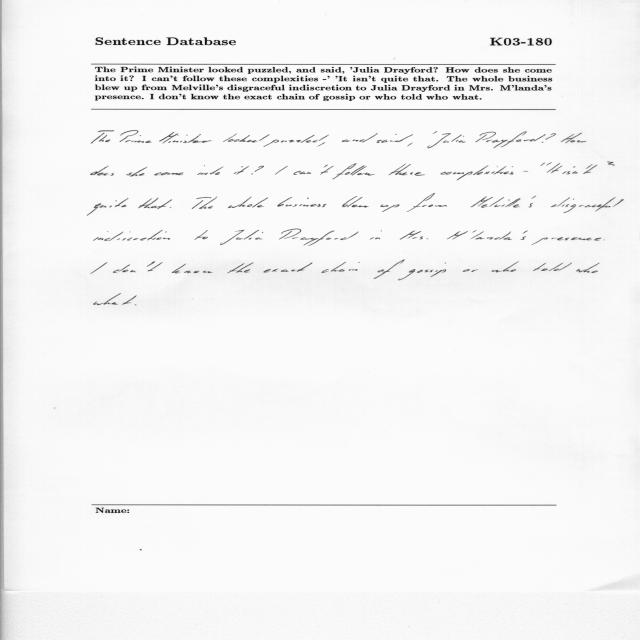word: (279, 229, 359, 246), (476, 132, 546, 149), (551, 197, 624, 213), (441, 166, 514, 181), (398, 263, 446, 281), (263, 134, 329, 147), (94, 230, 170, 241), (447, 230, 528, 240), (471, 196, 536, 208), (407, 193, 448, 212), (332, 163, 375, 180), (88, 198, 129, 215), (562, 162, 615, 175), (220, 230, 263, 245), (159, 132, 212, 144), (105, 130, 152, 143), (113, 261, 163, 273), (374, 260, 405, 279), (427, 134, 466, 149), (532, 237, 601, 245), (277, 197, 327, 207), (263, 263, 313, 273), (94, 294, 137, 305), (228, 197, 268, 208), (389, 164, 425, 176), (321, 262, 360, 273), (223, 134, 270, 143), (293, 165, 334, 175), (172, 264, 212, 274), (138, 198, 172, 209), (342, 133, 378, 143), (377, 134, 414, 143), (492, 261, 519, 273), (533, 263, 572, 271), (192, 197, 217, 209), (342, 196, 369, 207), (92, 131, 114, 144), (228, 263, 254, 274), (198, 165, 224, 175), (400, 231, 428, 240), (561, 133, 586, 143), (91, 166, 114, 176), (577, 263, 600, 273), (126, 167, 147, 177), (91, 262, 107, 274), (381, 204, 400, 212), (547, 163, 562, 173), (542, 133, 556, 143), (194, 230, 208, 240), (234, 166, 249, 174), (251, 166, 264, 175), (275, 166, 288, 175), (155, 172, 184, 176), (370, 231, 382, 240), (463, 269, 478, 272), (318, 142, 325, 147), (408, 143, 413, 147), (547, 162, 552, 166), (540, 163, 545, 166), (433, 131, 437, 134), (524, 171, 528, 172), (603, 240, 605, 241), (170, 207, 171, 208), (135, 305, 136, 306)
